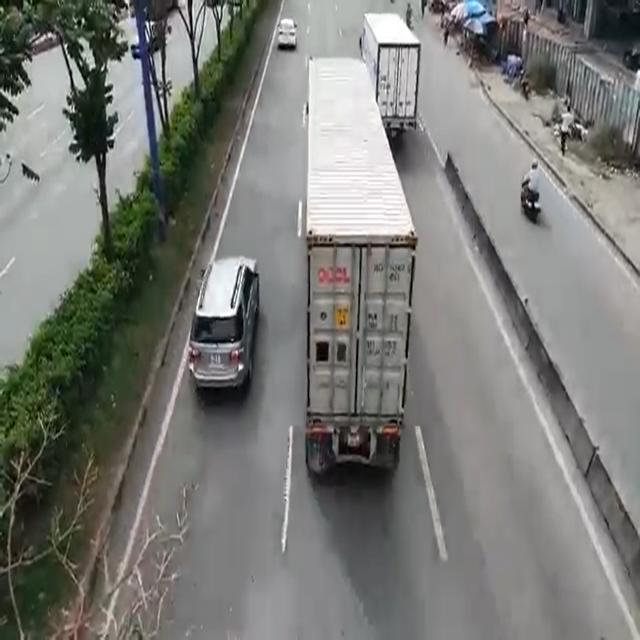truck: (303, 52, 406, 489), (363, 11, 420, 129), (258, 253, 260, 260)
